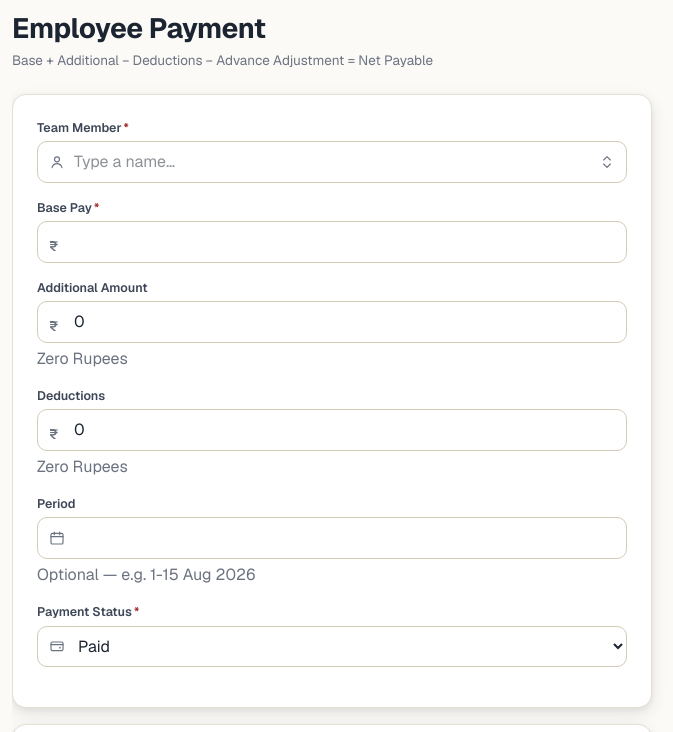
Test: NewPaymentPage › renders the Payment form with Team Members loaded into the picker
Type "ravi" into the dropdown labelled "Team Member". click: [332, 162]
box: left=37, top=141, right=627, bottom=183
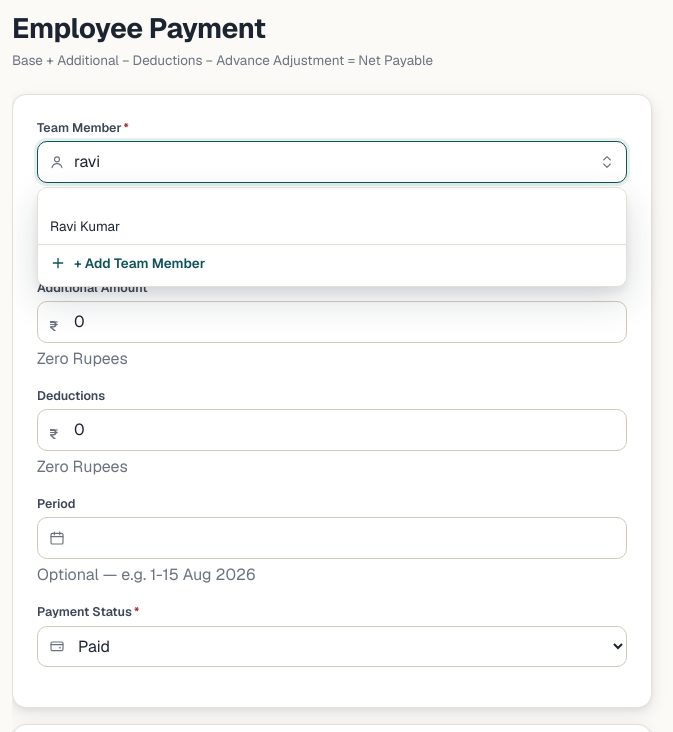
Now the option "Ravi Kumar" is shown, box left=50, top=217, right=120, bottom=235
